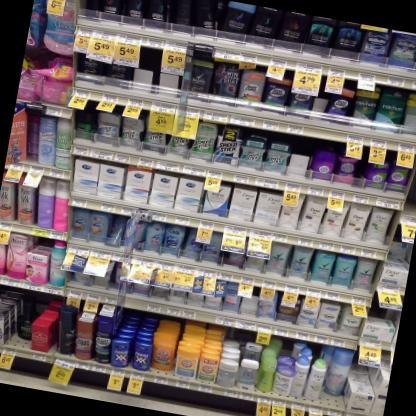empty_space: (287, 133, 316, 179), (134, 44, 163, 87)
